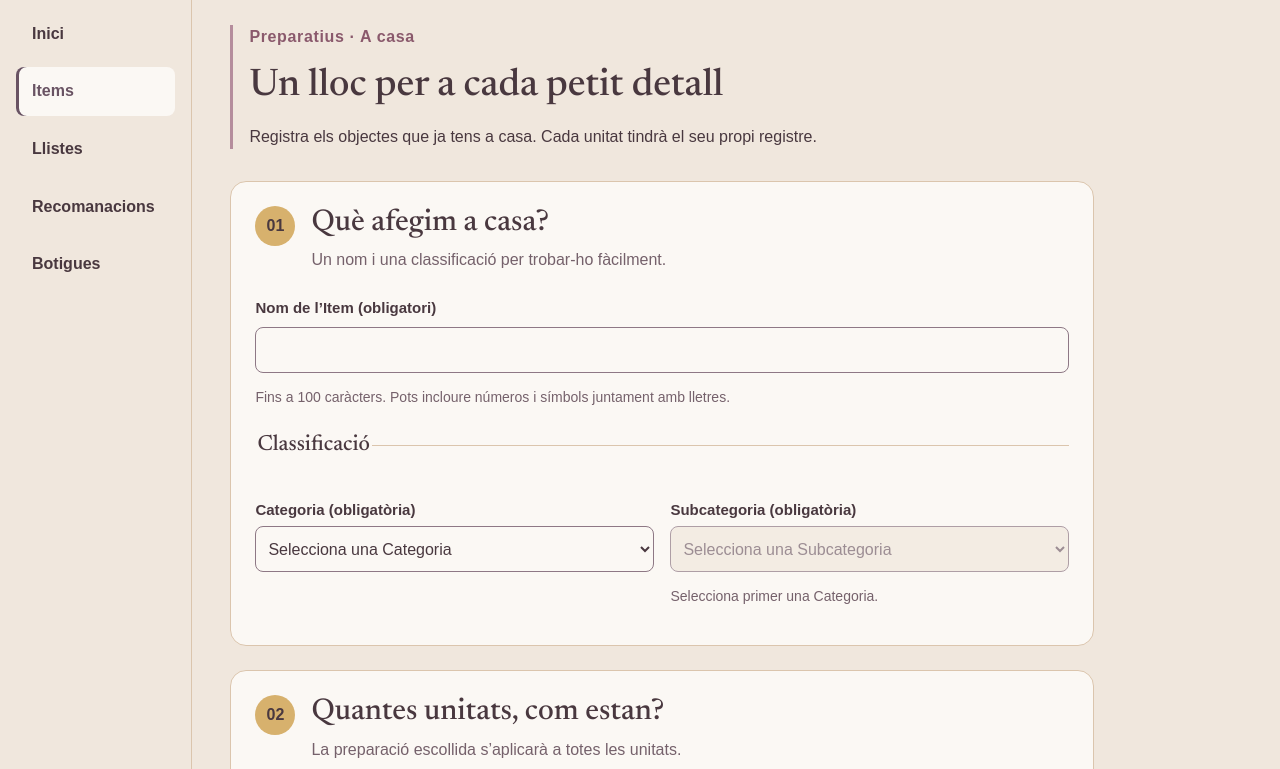
Test: xarxa: error persistent i dades conservades
Step 1. Type "Body" into the field labelled "Nom de l’Item (obligatori)" → (662, 350), box top-left (255, 327), bottom-right (1069, 373)
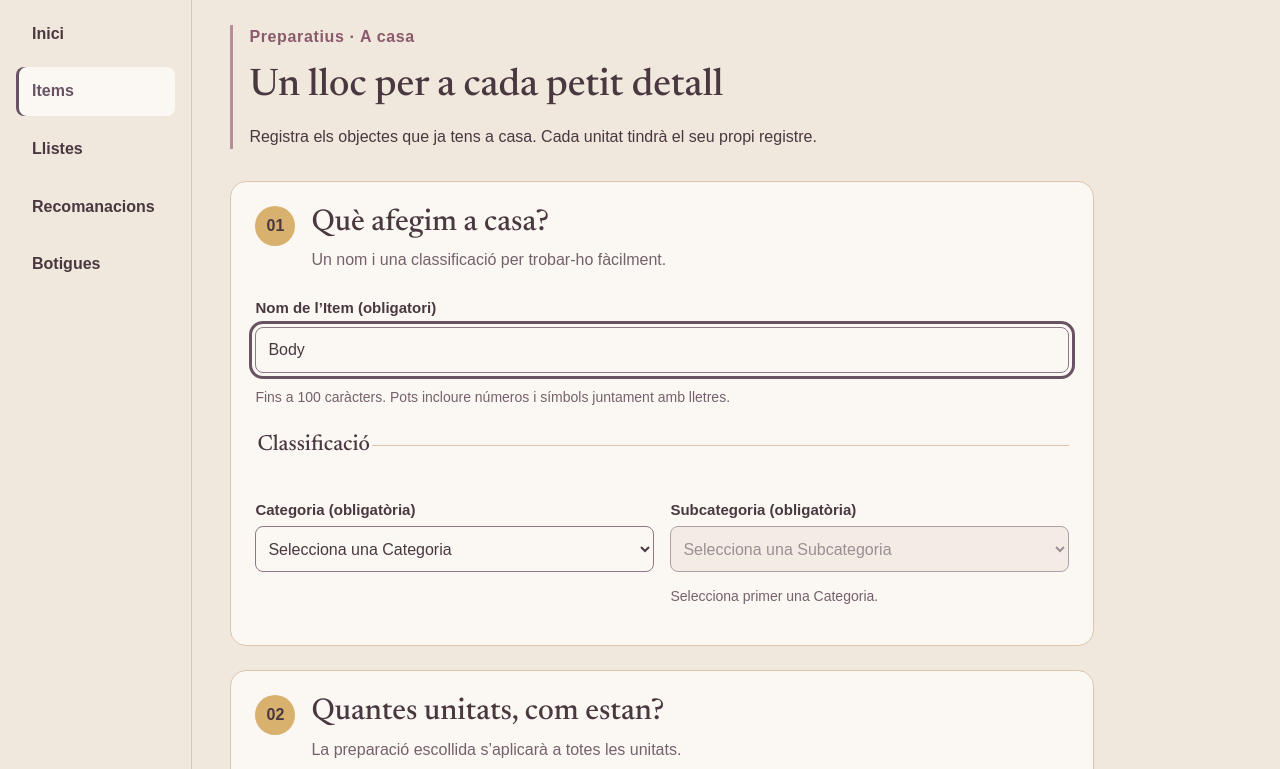
Step 2. Select "Roba" in the dropdown labelled "Categoria (obligatòria)" → (455, 549), box top-left (255, 526), bottom-right (654, 572)
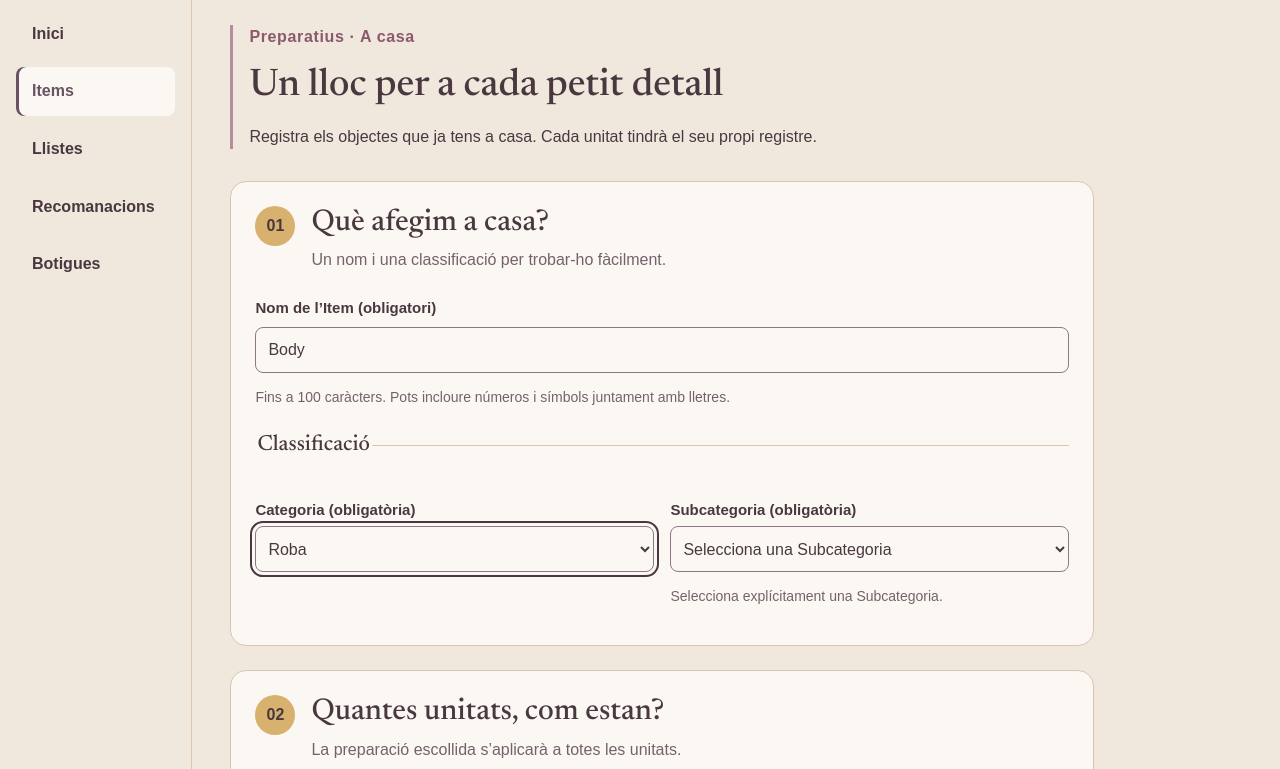
Step 3. Select "Bodies" in the dropdown labelled "Subcategoria (obligatòria)" → (870, 549), box top-left (670, 526), bottom-right (1069, 572)
(page scrolled)
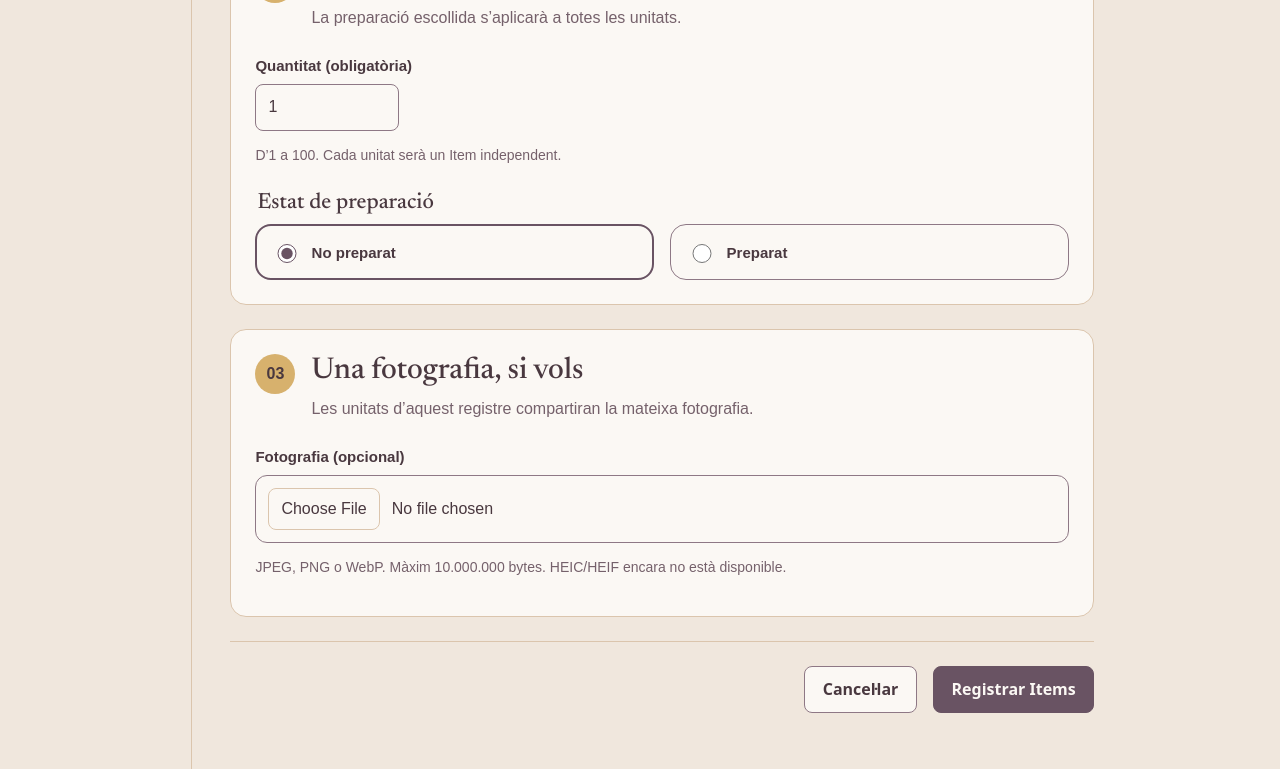
Step 4. Click the button "Registrar Items" → (1014, 690), box top-left (933, 666), bottom-right (1094, 713)
(page scrolled)
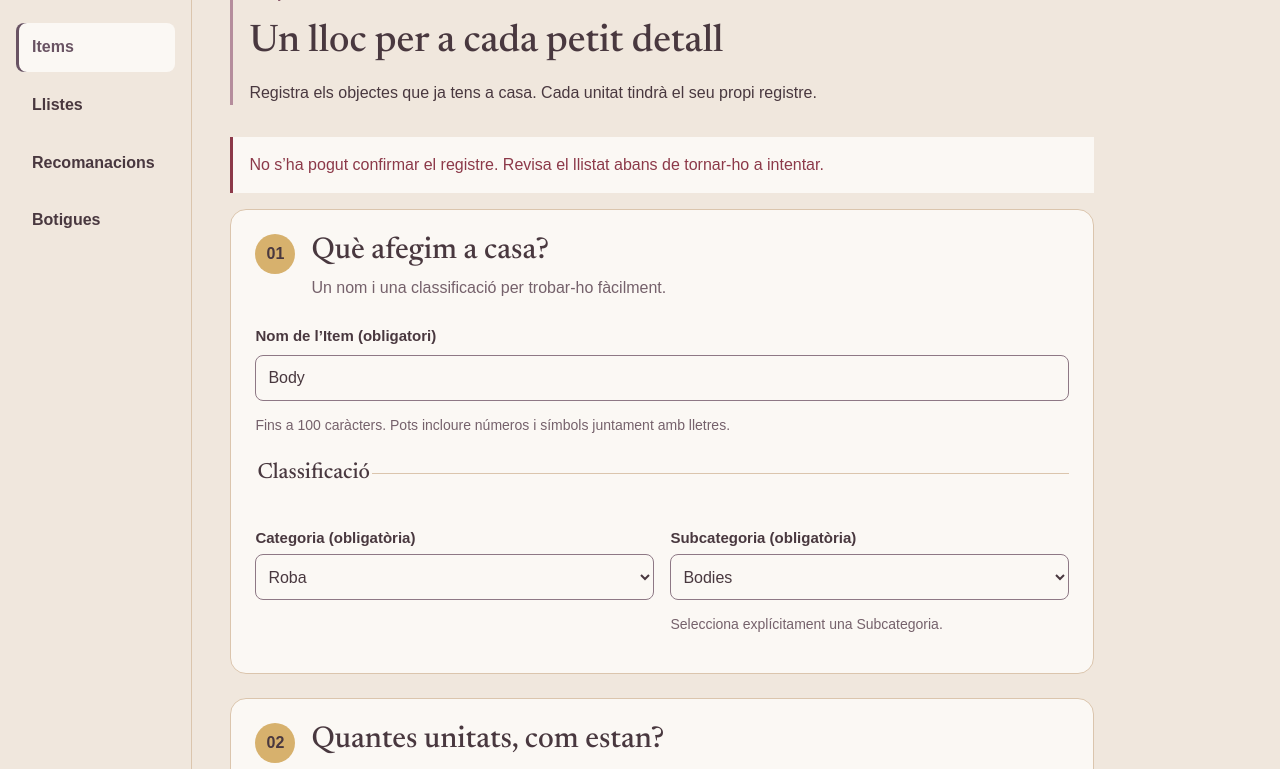
Result: the 1st message is shown at top-left (230, 137), bottom-right (1094, 193)
